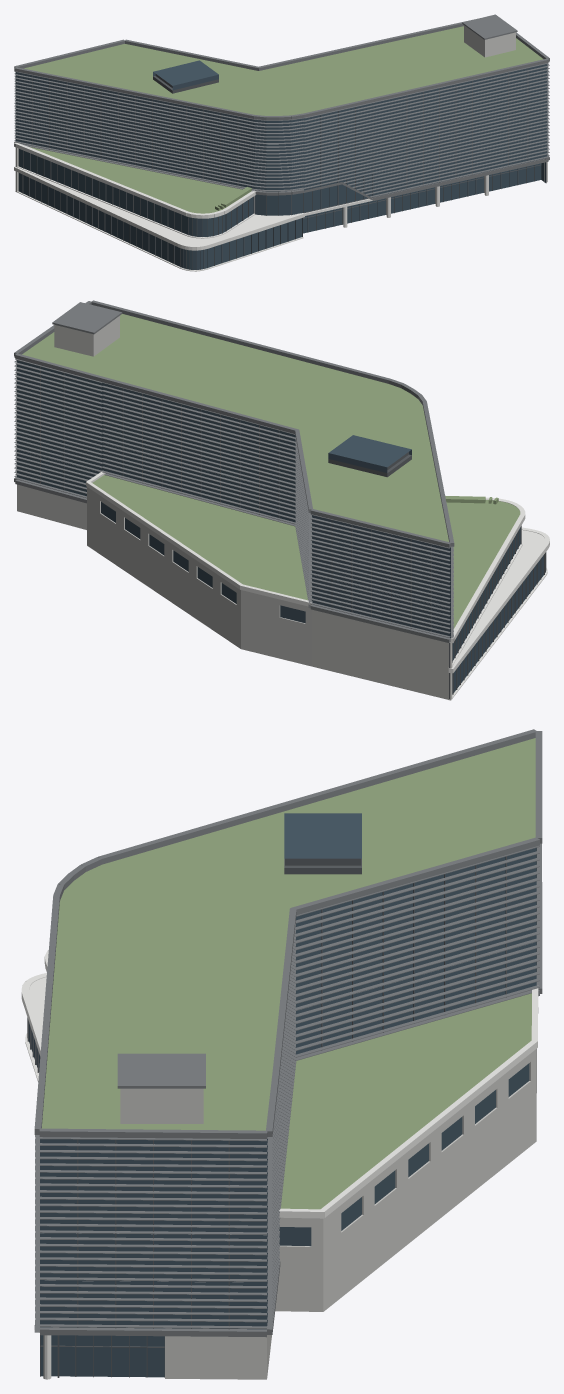
3 renders of one model, top to bottom at view 1: azimuth 30°, elevation 25°; view 2: azimuth 150°, elevation 25°; view 3: azimuth 270°, elevation 25°, orthographic. The views are drawn at different scales.
Visible parts, largest first — view 1: chungMongKoo__glass, chungMongKoo__fin, chungMongKoo__green, chungMongKoo__white, chungMongKoo__frame, chungMongKoo__concrete; view 2: chungMongKoo__green, chungMongKoo__fin, chungMongKoo__glass, chungMongKoo__concrete, chungMongKoo__white, chungMongKoo__frame; view 3: chungMongKoo__green, chungMongKoo__fin, chungMongKoo__glass, chungMongKoo__concrete, chungMongKoo__white, chungMongKoo__frame.
Boxes of the visible parts, x1,y1,x2,y2 form: chungMongKoo__glass: (15, 60, 547, 269); chungMongKoo__fin: (14, 14, 549, 200); chungMongKoo__green: (24, 26, 543, 213); chungMongKoo__white: (14, 142, 547, 271); chungMongKoo__frame: (22, 68, 546, 269); chungMongKoo__concrete: (15, 25, 515, 192); chungMongKoo__green: (22, 314, 520, 628); chungMongKoo__fin: (14, 300, 454, 642); chungMongKoo__glass: (17, 360, 543, 694); chungMongKoo__concrete: (17, 316, 452, 699); chungMongKoo__white: (86, 471, 549, 700); chungMongKoo__frame: (40, 366, 546, 699); chungMongKoo__green: (41, 738, 535, 1209); chungMongKoo__fin: (34, 729, 542, 1337); chungMongKoo__glass: (29, 813, 536, 1377); chungMongKoo__concrete: (120, 1048, 536, 1379); chungMongKoo__white: (21, 949, 538, 1379); chungMongKoo__frame: (27, 848, 536, 1377).
Bounding box in the file's own units: 80.1 × 26.02 × 43.62.
